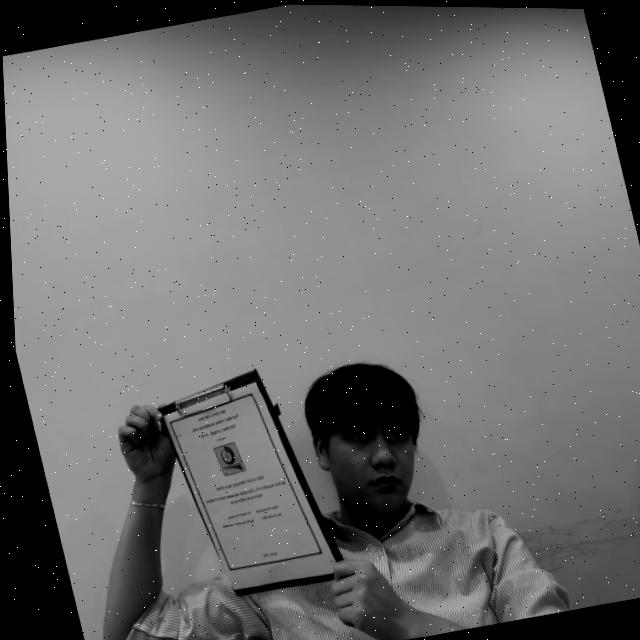document: (162, 383, 340, 590)
face: (296, 377, 439, 536)
